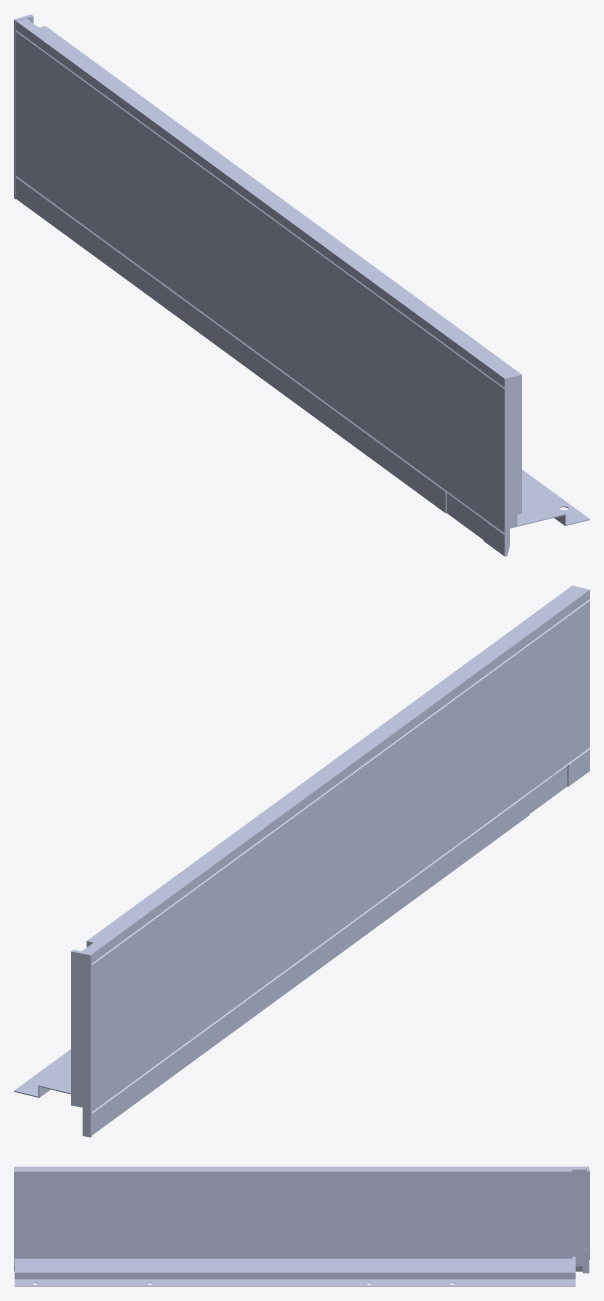
Rendered from lg-kava-K650-p.glb.
The picture shows the model from 3 angles, top to bottom: view 1: azimuth 30°, elevation 25°; view 2: azimuth 150°, elevation 25°; view 3: azimuth 270°, elevation 25°; orthographic projection. The views are drawn at different scales.
Parts seen in each view (by area): view 1: 43453468; view 2: 43453468; view 3: 43453468.
Part boxes in pixels (bbox=[...]): 43453468: bbox=[14, 14, 589, 556]; 43453468: bbox=[14, 585, 589, 1137]; 43453468: bbox=[14, 1166, 589, 1286].
Size of the model in its own units: 0.0653 by 0.1292 by 0.6435.
